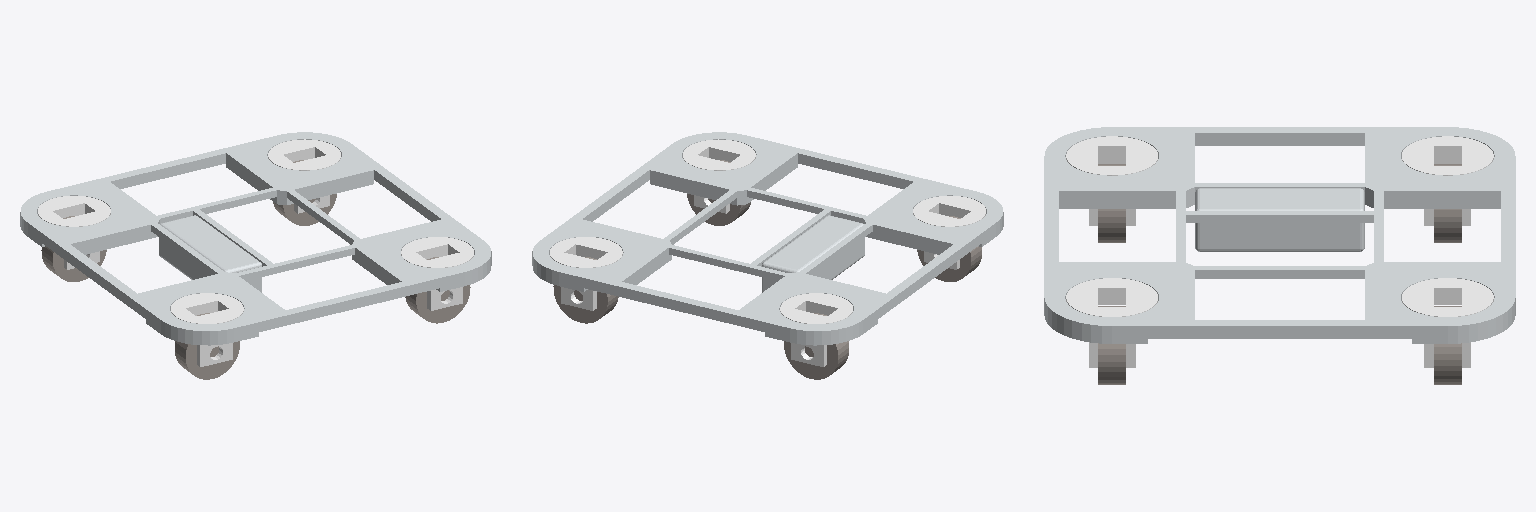
robot.urdf — urdf7:
<?xml version="1.0" encoding="utf-8"?>
<!-- This URDF was automatically created by SolidWorks to URDF Exporter! Originally created by [author] ([email redacted]) 
     Commit Version: 1.6.0-4-g7f85cfe  Build Version: 1.6.7995.38578
     For more information, please see http://wiki.ros.org/sw_urdf_exporter -->
<robot
  name="urdf7">
  <link
    name="base_link">
    <inertial>
      <origin
        xyz="0.226401216207925 0.0832142996809814 -0.250000000000002"
        rpy="0 0 0" />
      <mass
        value="3.00064129669064" />
      <inertia
        ixx="0.00796442280563064"
        ixy="1.25138237860794E-19"
        ixz="-3.69306365002875E-19"
        iyy="0.0128600718019731"
        iyz="-1.51411853296425E-18"
        izz="0.00543817220574472" />
    </inertial>
    <visual>
      <origin
        xyz="0 0 0"
        rpy="0 0 0" />
      <geometry>
        <mesh
          filename="package://urdf7/meshes/base_link.STL" />
      </geometry>
      <material
        name="">
        <color
          rgba="0.898039215686275 0.917647058823529 0.929411764705882 1" />
      </material>
    </visual>
    <collision>
      <origin
        xyz="0 0 0"
        rpy="0 0 0" />
      <geometry>
        <mesh
          filename="package://urdf7/meshes/base_link.STL" />
      </geometry>
    </collision>
  </link>
  <link
    name="st_fr">
    <inertial>
      <origin
        xyz="1.0547118733939E-15 -6.12010442324618E-15 0.0517722817308343"
        rpy="0 0 0" />
      <mass
        value="0.221804775243313" />
      <inertia
        ixx="0.000211251147171327"
        ixy="1.5785020728078E-19"
        ixz="3.46790690716169E-21"
        iyy="0.000195922267849405"
        iyz="8.12670481776353E-21"
        izz="0.000272151766439536" />
    </inertial>
    <visual>
      <origin
        xyz="0 0 0"
        rpy="0 0 0" />
      <geometry>
        <mesh
          filename="package://urdf7/meshes/st_fr.STL" />
      </geometry>
      <material
        name="">
        <color
          rgba="1 1 1 1" />
      </material>
    </visual>
    <collision>
      <origin
        xyz="0 0 0"
        rpy="0 0 0" />
      <geometry>
        <mesh
          filename="package://urdf7/meshes/st_fr.STL" />
      </geometry>
    </collision>
  </link>
  <joint
    name="st_fr"
    type="continuous">
    <origin
      xyz="0.427999999999999 0.0720000000000044 0.0269999999999952"
      rpy="0 0 0" />
    <parent
      link="base_link" />
    <child
      link="st_fr" />
    <axis
      xyz="0 0 1" />
  </joint>
  <link
    name="wh_fr">
    <inertial>
      <origin
        xyz="-5.55111512312578E-17 2.77555756156289E-17 6.10622663543836E-15"
        rpy="0 0 0" />
      <mass
        value="0.764764182848667" />
      <inertia
        ixx="0.000394618318349911"
        ixy="-2.71050543121376E-20"
        ixz="-2.68066210887539E-18"
        iyy="0.000394618318349911"
        iyz="-9.167375055187E-19"
        izz="0.000674522009272522" />
    </inertial>
    <visual>
      <origin
        xyz="0 0 0"
        rpy="0 0 0" />
      <geometry>
        <mesh
          filename="package://urdf7/meshes/wh_fr.STL" />
      </geometry>
      <material
        name="">
        <color
          rgba="0.686274509803922 0.658823529411765 0.63921568627451 1" />
      </material>
    </visual>
    <collision>
      <origin
        xyz="0 0 0"
        rpy="0 0 0" />
      <geometry>
        <mesh
          filename="package://urdf7/meshes/wh_fr.STL" />
      </geometry>
    </collision>
  </link>
  <joint
    name="wh_fr"
    type="continuous">
    <origin
      xyz="0 0 0.0150000000000048"
      rpy="-1.5707963267949 -0.316982240676282 3.14159265358979" />
    <parent
      link="st_fr" />
    <child
      link="wh_fr" />
    <axis
      xyz="0 0 1" />
  </joint>
  <link
    name="st_fl">
    <inertial>
      <origin
        xyz="6.10622663543836E-15 -6.21724893790088E-15 0.0517722817308343"
        rpy="0 0 0" />
      <mass
        value="0.221804775243313" />
      <inertia
        ixx="0.000211251147171327"
        ixy="1.51130406754329E-19"
        ixz="8.42111717249425E-21"
        iyy="0.000195922267849405"
        iyz="-5.86063240394111E-20"
        izz="0.000272151766439536" />
    </inertial>
    <visual>
      <origin
        xyz="0 0 0"
        rpy="0 0 0" />
      <geometry>
        <mesh
          filename="package://urdf7/meshes/st_fl.STL" />
      </geometry>
      <material
        name="">
        <color
          rgba="1 1 1 1" />
      </material>
    </visual>
    <collision>
      <origin
        xyz="0 0 0"
        rpy="0 0 0" />
      <geometry>
        <mesh
          filename="package://urdf7/meshes/st_fl.STL" />
      </geometry>
    </collision>
  </link>
  <joint
    name="st_fl"
    type="continuous">
    <origin
      xyz="0.427999999999997 0.428000000000004 0.0269999999999951"
      rpy="0 0 0" />
    <parent
      link="base_link" />
    <child
      link="st_fl" />
    <axis
      xyz="0 0 1" />
  </joint>
  <link
    name="wh_fl">
    <inertial>
      <origin
        xyz="0 0 6.21724893790088E-15"
        rpy="0 0 0" />
      <mass
        value="0.764764182848668" />
      <inertia
        ixx="0.000394618318349911"
        ixy="0"
        ixz="-5.56279878249985E-19"
        iyy="0.000394618318349911"
        iyz="2.77764143153309E-18"
        izz="0.000674522009272522" />
    </inertial>
    <visual>
      <origin
        xyz="0 0 0"
        rpy="0 0 0" />
      <geometry>
        <mesh
          filename="package://urdf7/meshes/wh_fl.STL" />
      </geometry>
      <material
        name="">
        <color
          rgba="0.686274509803922 0.658823529411765 0.63921568627451 1" />
      </material>
    </visual>
    <collision>
      <origin
        xyz="0 0 0"
        rpy="0 0 0" />
      <geometry>
        <mesh
          filename="package://urdf7/meshes/wh_fl.STL" />
      </geometry>
    </collision>
  </link>
  <joint
    name="wh_fl"
    type="continuous">
    <origin
      xyz="0 0 0.0150000000000049"
      rpy="-1.5707963267949 1.37893541128007 3.14159265358979" />
    <parent
      link="st_fl" />
    <child
      link="wh_fl" />
    <axis
      xyz="0 0 1" />
  </joint>
  <link
    name="st_bl">
    <inertial>
      <origin
        xyz="-5.55111512312578E-17 5.55111512312578E-17 0.0517722817308294"
        rpy="0 0 0" />
      <mass
        value="0.221804775243313" />
      <inertia
        ixx="0.000211251147171327"
        ixy="1.54560692786772E-19"
        ixz="-6.07336053282238E-21"
        iyy="0.000195922267849405"
        iyz="-8.09299705478716E-20"
        izz="0.000272151766439536" />
    </inertial>
    <visual>
      <origin
        xyz="0 0 0"
        rpy="0 0 0" />
      <geometry>
        <mesh
          filename="package://urdf7/meshes/st_bl.STL" />
      </geometry>
      <material
        name="">
        <color
          rgba="1 1 1 1" />
      </material>
    </visual>
    <collision>
      <origin
        xyz="0 0 0"
        rpy="0 0 0" />
      <geometry>
        <mesh
          filename="package://urdf7/meshes/st_bl.STL" />
      </geometry>
    </collision>
  </link>
  <joint
    name="st_bl"
    type="continuous">
    <origin
      xyz="0.0719999999999934 0.428000000000001 0.0269999999999999"
      rpy="0 0 0" />
    <parent
      link="base_link" />
    <child
      link="st_bl" />
    <axis
      xyz="0 0 1" />
  </joint>
  <link
    name="wh_bl">
    <inertial>
      <origin
        xyz="-7.63278329429795E-17 -9.71445146547012E-17 0"
        rpy="0 0 0" />
      <mass
        value="0.764764182848668" />
      <inertia
        ixx="0.000394618318349911"
        ixy="8.470329472543E-22"
        ixz="1.04246469853974E-19"
        iyy="0.000394618318349911"
        iyz="2.87657101211516E-18"
        izz="0.000674522009272522" />
    </inertial>
    <visual>
      <origin
        xyz="0 0 0"
        rpy="0 0 0" />
      <geometry>
        <mesh
          filename="package://urdf7/meshes/wh_bl.STL" />
      </geometry>
      <material
        name="">
        <color
          rgba="0.686274509803922 0.658823529411765 0.63921568627451 1" />
      </material>
    </visual>
    <collision>
      <origin
        xyz="0 0 0"
        rpy="0 0 0" />
      <geometry>
        <mesh
          filename="package://urdf7/meshes/wh_bl.STL" />
      </geometry>
    </collision>
  </link>
  <joint
    name="wh_bl"
    type="continuous">
    <origin
      xyz="0 0 0.015"
      rpy="1.5707963267949 1.5497746785967 0" />
    <parent
      link="st_bl" />
    <child
      link="wh_bl" />
    <axis
      xyz="0 0 1" />
  </joint>
  <link
    name="st_br">
    <inertial>
      <origin
        xyz="-4.16333634234434E-17 -1.38777878078145E-17 0.0517722817308295"
        rpy="0 0 0" />
      <mass
        value="0.221804775243313" />
      <inertia
        ixx="0.000211251147171327"
        ixy="1.67216368223617E-19"
        ixz="-1.86308560167406E-20"
        iyy="0.000195922267849405"
        iyz="-1.60327974750367E-20"
        izz="0.000272151766439536" />
    </inertial>
    <visual>
      <origin
        xyz="0 0 0"
        rpy="0 0 0" />
      <geometry>
        <mesh
          filename="package://urdf7/meshes/st_br.STL" />
      </geometry>
      <material
        name="">
        <color
          rgba="1 1 1 1" />
      </material>
    </visual>
    <collision>
      <origin
        xyz="0 0 0"
        rpy="0 0 0" />
      <geometry>
        <mesh
          filename="package://urdf7/meshes/st_br.STL" />
      </geometry>
    </collision>
  </link>
  <joint
    name="st_br"
    type="continuous">
    <origin
      xyz="0.072 0.0719999999999996 0.0269999999999999"
      rpy="0 0 0" />
    <parent
      link="base_link" />
    <child
      link="st_br" />
    <axis
      xyz="0 0 1" />
  </joint>
  <link
    name="wh_br">
    <inertial>
      <origin
        xyz="6.93889390390723E-18 1.38777878078145E-17 -1.38777878078145E-17"
        rpy="0 0 0" />
      <mass
        value="0.764764182848667" />
      <inertia
        ixx="0.000394618318349911"
        ixy="4.06575814682064E-20"
        ixz="-2.37144111384372E-18"
        iyy="0.000394618318349911"
        iyz="-1.50660309843309E-18"
        izz="0.000674522009272522" />
    </inertial>
    <visual>
      <origin
        xyz="0 0 0"
        rpy="0 0 0" />
      <geometry>
        <mesh
          filename="package://urdf7/meshes/wh_br.STL" />
      </geometry>
      <material
        name="">
        <color
          rgba="0.686274509803922 0.658823529411765 0.63921568627451 1" />
      </material>
    </visual>
    <collision>
      <origin
        xyz="0 0 0"
        rpy="0 0 0" />
      <geometry>
        <mesh
          filename="package://urdf7/meshes/wh_br.STL" />
      </geometry>
    </collision>
  </link>
  <joint
    name="wh_br"
    type="continuous">
    <origin
      xyz="0 0 0.015"
      rpy="-1.5707963267949 -0.57401915441884 3.14159265358979" />
    <parent
      link="st_br" />
    <child
      link="wh_br" />
    <axis
      xyz="0 0 1" />
  </joint>
</robot>

--- What the picture shows (computed from the rendered views, not written in the file) ---
The picture shows the robot from 3 angles, left to right: view 1: azimuth 30°, elevation 25°; view 2: azimuth 150°, elevation 25°; view 3: azimuth 270°, elevation 25°; orthographic projection.
Robot: urdf7 — 9 links, 8 joints (8 continuous); root link base_link; default pose: all joints at 0.
Links seen in each view (by area): view 1: base_link, st_br, st_fr, st_fl, st_bl, wh_br, wh_fr, wh_bl, wh_fl; view 2: base_link, st_bl, st_fl, st_fr, st_br, wh_bl, wh_fl, wh_br, wh_fr; view 3: base_link, st_fl, st_fr, st_bl, st_br, wh_fr, wh_fl, wh_bl, wh_br.
Link boxes in pixels (box(x1,y1,x2,y2)): base_link: box(20, 132, 491, 345); st_br: box(171, 293, 243, 366); st_fr: box(401, 237, 473, 310); st_fl: box(268, 139, 340, 213); st_bl: box(38, 196, 110, 269); wh_br: box(175, 313, 239, 379); wh_fr: box(405, 257, 470, 323); wh_bl: box(41, 216, 106, 281); wh_fl: box(273, 160, 336, 225); base_link: box(532, 132, 1003, 345); st_bl: box(780, 293, 852, 366); st_fl: box(550, 237, 622, 310); st_fr: box(683, 139, 755, 213); st_br: box(913, 196, 985, 269); wh_bl: box(784, 313, 848, 379); wh_fl: box(553, 257, 618, 323); wh_br: box(917, 216, 981, 281); wh_fr: box(687, 160, 750, 225); base_link: box(1044, 127, 1515, 343); st_fl: box(1402, 278, 1493, 367); st_fr: box(1066, 278, 1157, 367); st_bl: box(1402, 136, 1493, 225); st_br: box(1066, 136, 1157, 225); wh_fr: box(1098, 306, 1125, 384); wh_fl: box(1434, 306, 1461, 384); wh_bl: box(1434, 164, 1461, 242); wh_br: box(1098, 164, 1125, 242).
Bounding box of the posed robot: 0.5 × 0.5 × 0.098 m (x, y, z).
9 mesh visuals loaded from 9 distinct referenced files (9 binary STL).